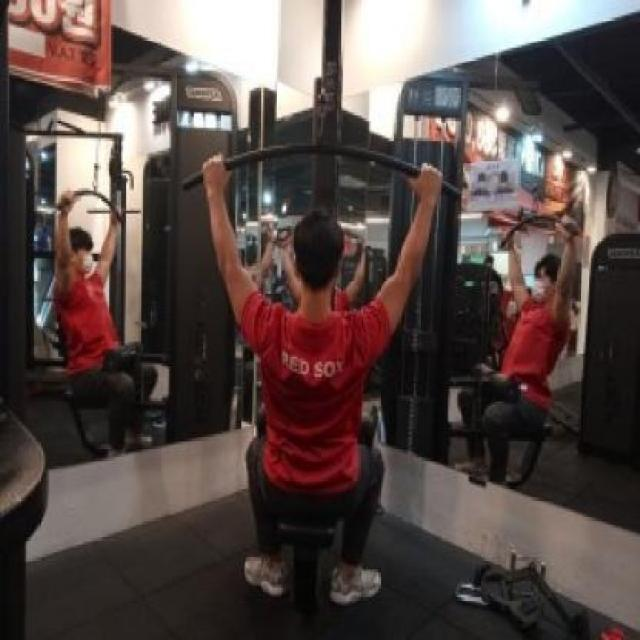Lat Pull Down: (166, 7, 469, 616)
